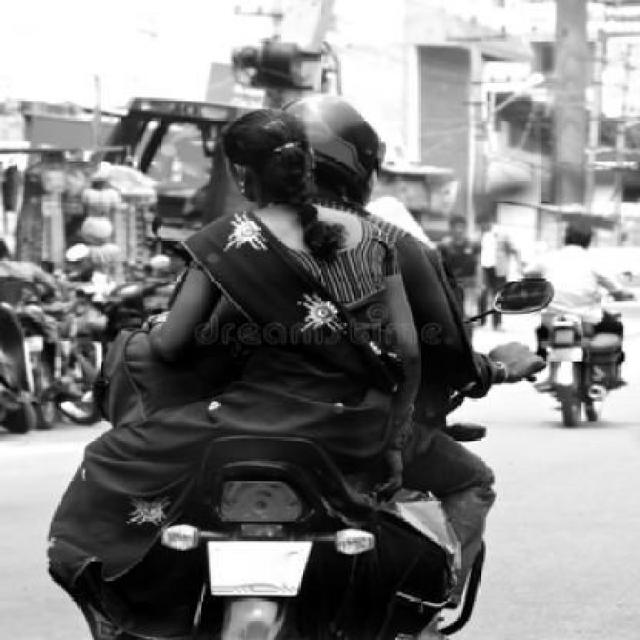With Helmet: (286, 81, 388, 208)
Without Helmet: (220, 106, 322, 214), (547, 208, 610, 255)
